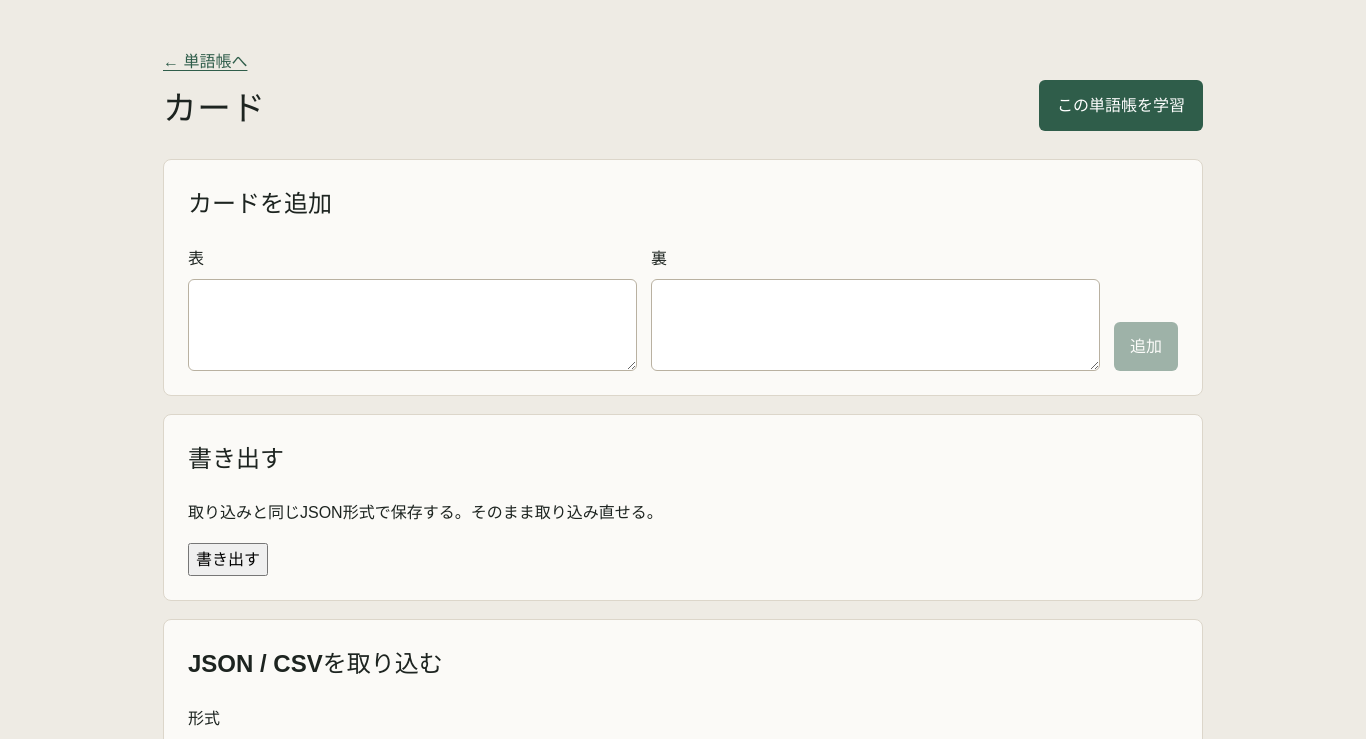
it: DeckDetailScreen › カード作成後に一覧を更新する
The width and height of the screenshot is (1366, 739).
Type "表1" into the text box labelled "表". click: [412, 325]
box: [188, 279, 637, 371]
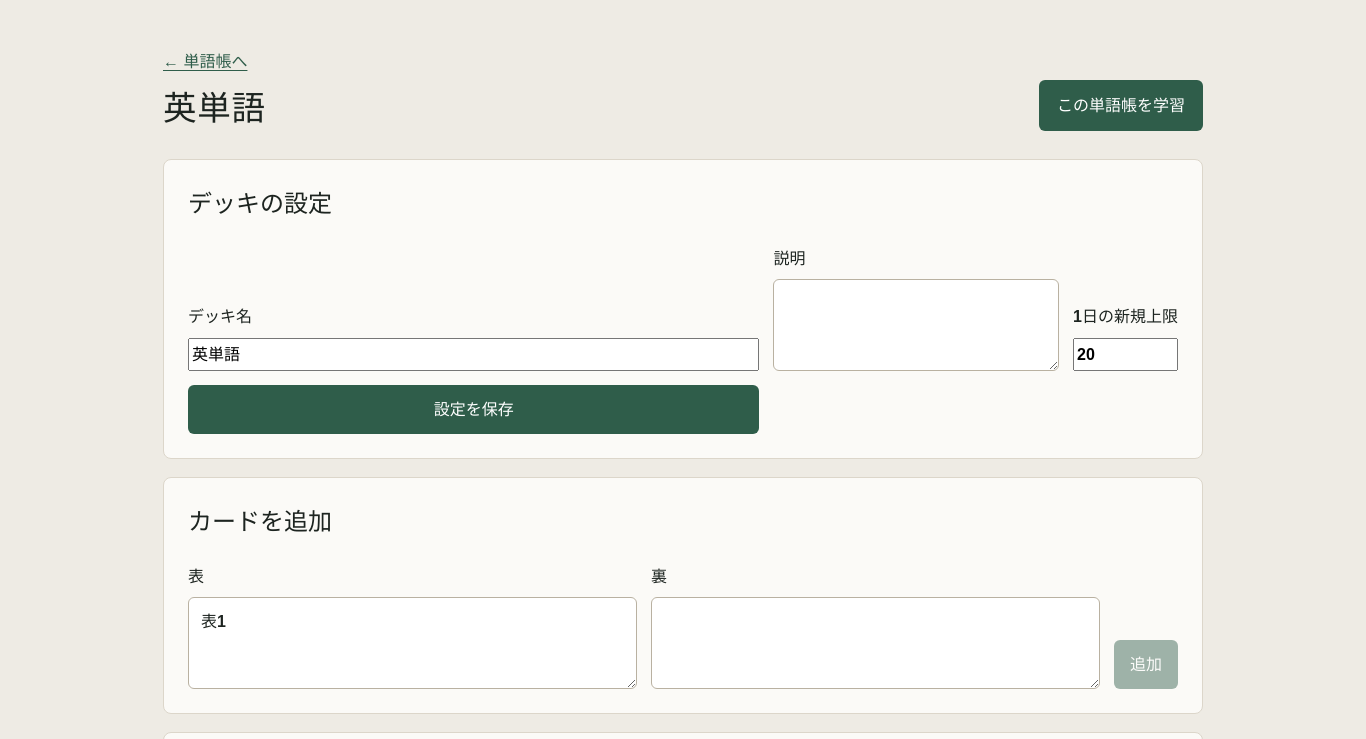
Type "裏1" into the text box labelled "裏". click: [876, 643]
box: [651, 597, 1100, 689]
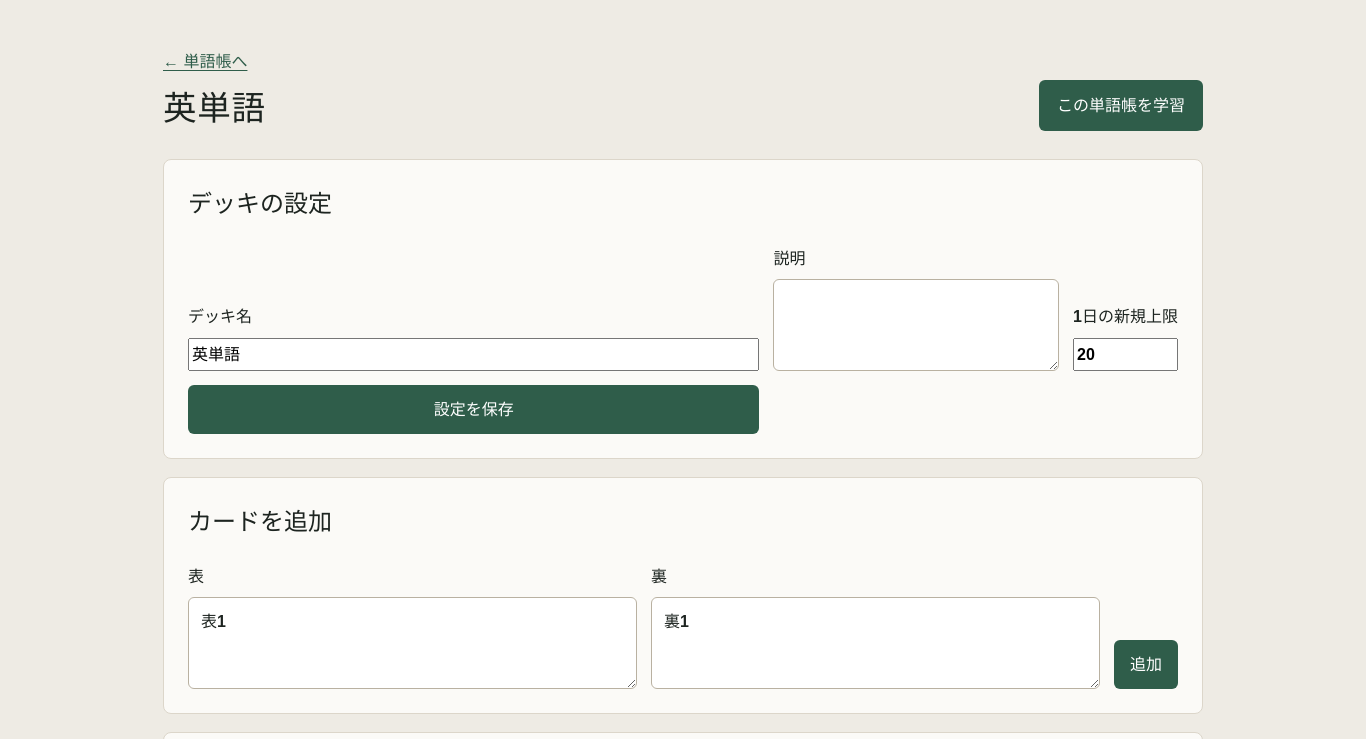
Click the button "追加". click: [1146, 664]
box: [1114, 640, 1178, 689]
(page scrolled)
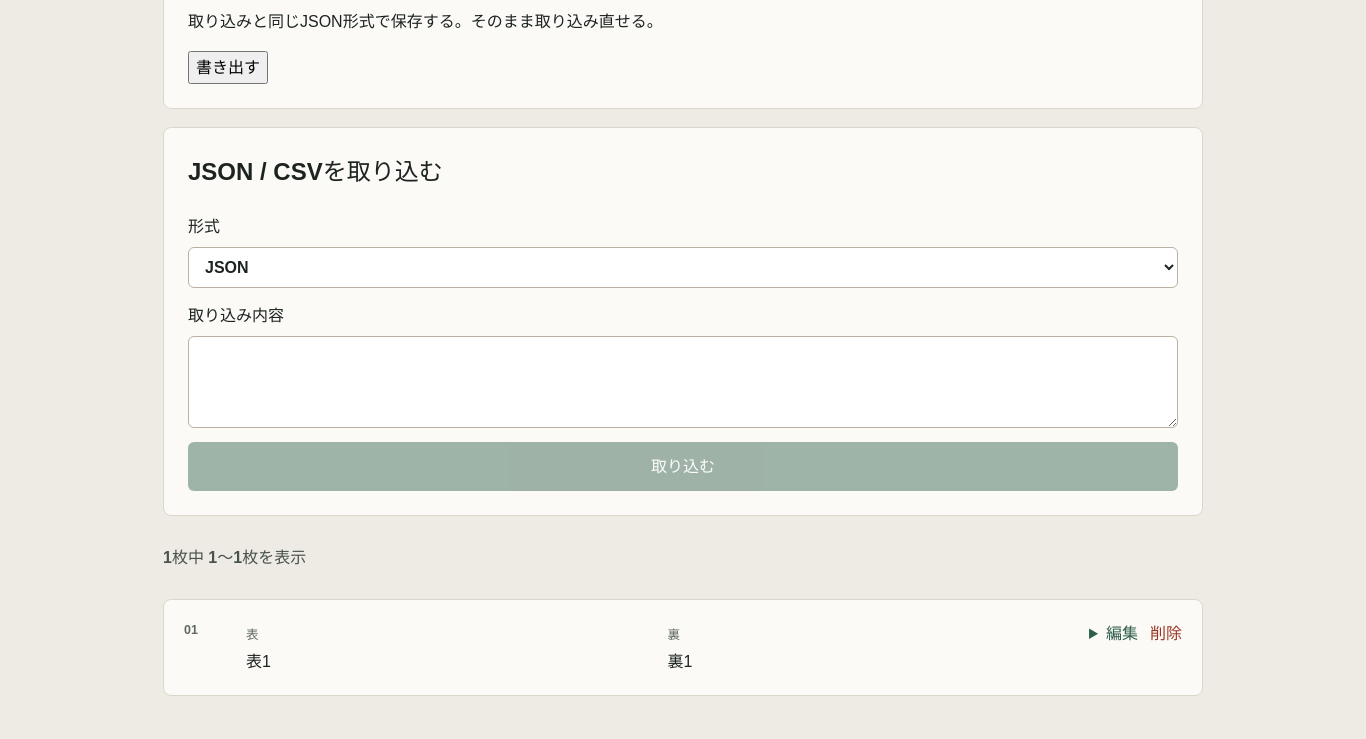
Now the text "裏1" is shown, box [668, 652, 692, 670]
